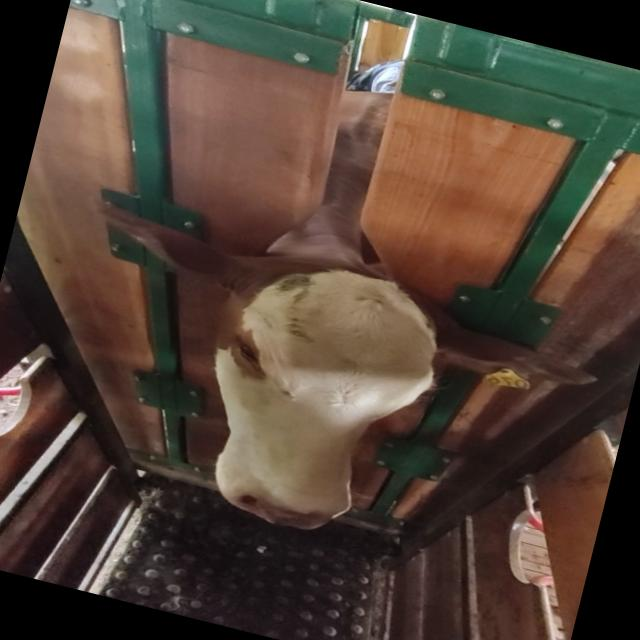cowFace: (178, 238, 458, 550)
